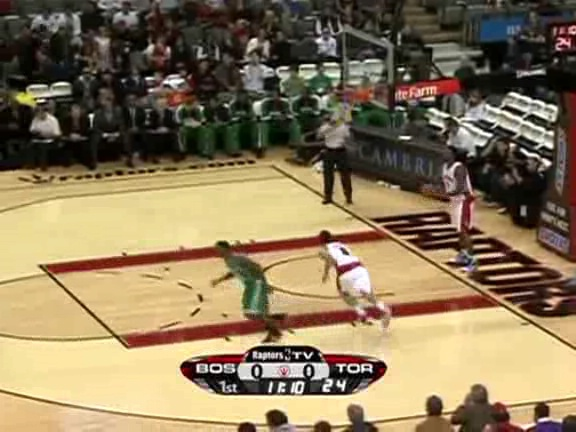person: (232, 246, 266, 327), (231, 246, 265, 327), (233, 246, 267, 327), (232, 245, 266, 326), (232, 247, 266, 328)
target_negative: (156, 196, 276, 423), (346, 313, 561, 422), (437, 226, 573, 287), (279, 349, 560, 370), (400, 393, 495, 424), (32, 354, 131, 379)
